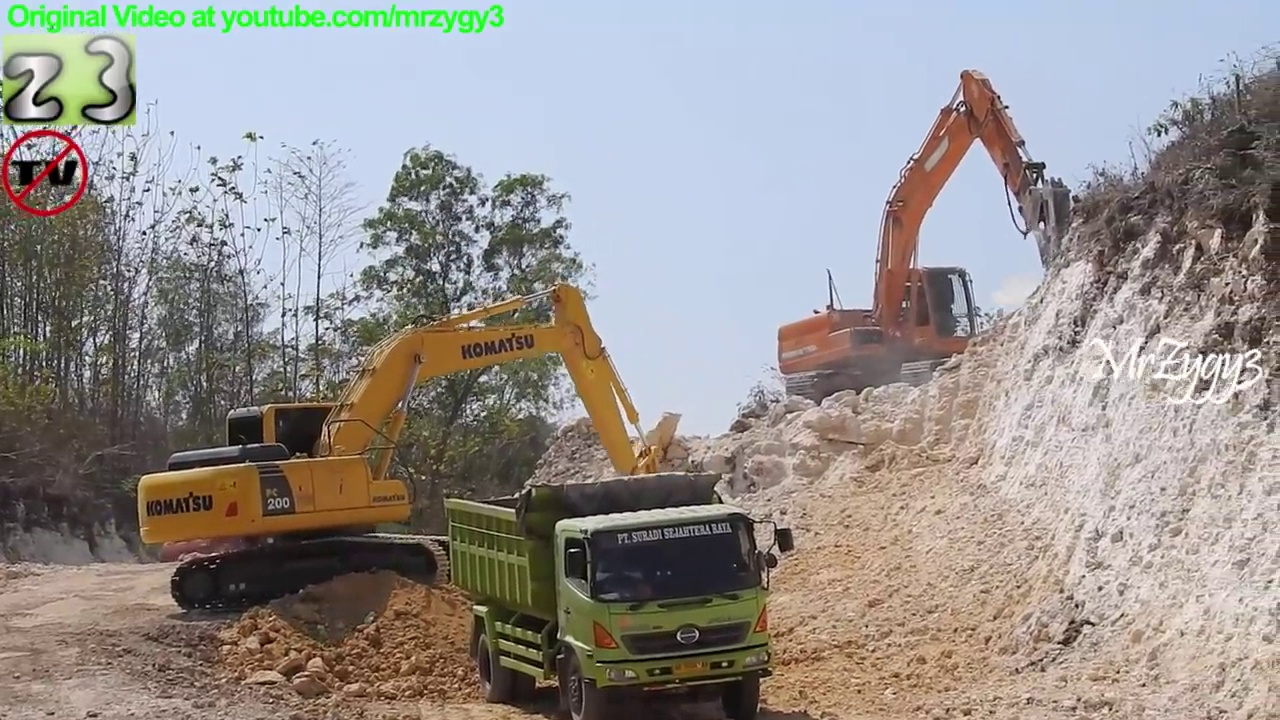excavator: (133, 281, 716, 624), (774, 62, 1086, 409)
truck: (438, 468, 797, 720)
